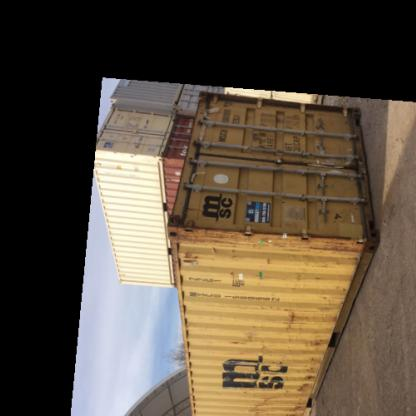Damage: (169, 220, 354, 258), (294, 336, 326, 394), (278, 298, 300, 334), (226, 331, 258, 355), (244, 390, 274, 415), (294, 270, 332, 286)
